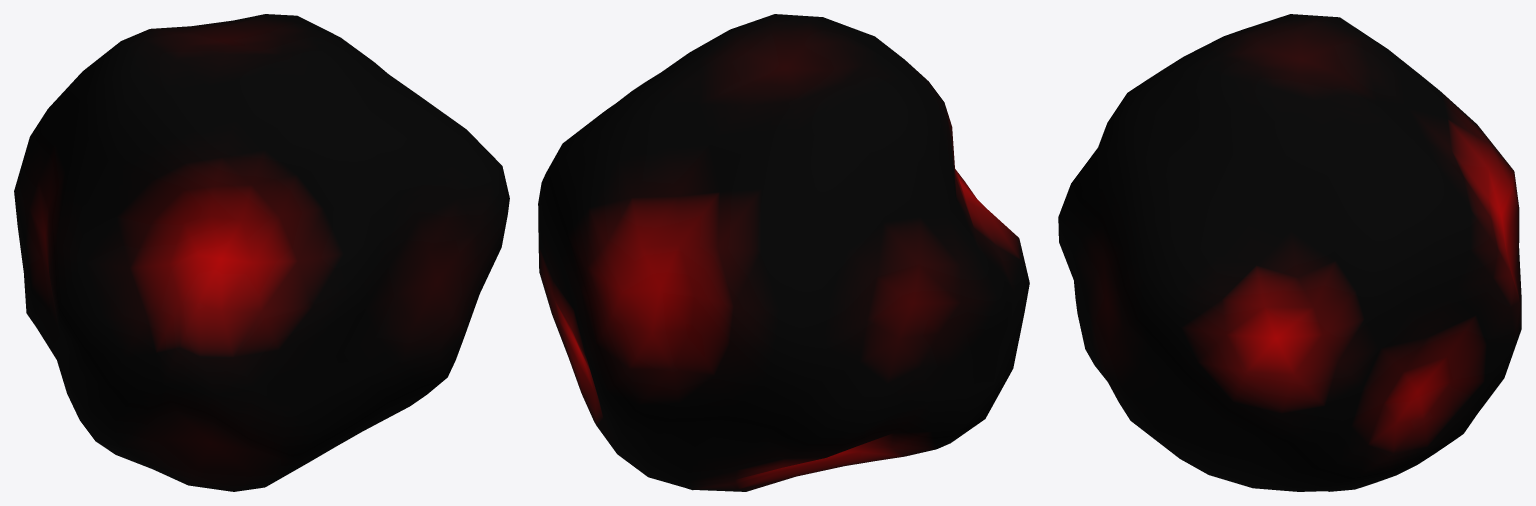
Rendered from SM_Meteorite.fbx.
3 views of the same model, side by side, from view 1: azimuth 30°, elevation 25°; view 2: azimuth 150°, elevation 25°; view 3: azimuth 270°, elevation 25° (orthographic). The views are drawn at different scales.
Visible parts, largest first — view 1: Meteorite; view 2: Meteorite; view 3: Meteorite.
Part boxes in pixels (bbox=[...]): Meteorite: bbox=[14, 14, 509, 491]; Meteorite: bbox=[538, 14, 1029, 491]; Meteorite: bbox=[1058, 14, 1521, 491].
Bounding box in the file's own units: 80.55 × 79.54 × 79.92.
